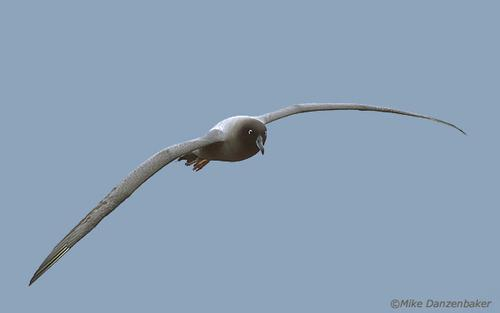003.Sooty_Albatross: (30, 103, 470, 289)
